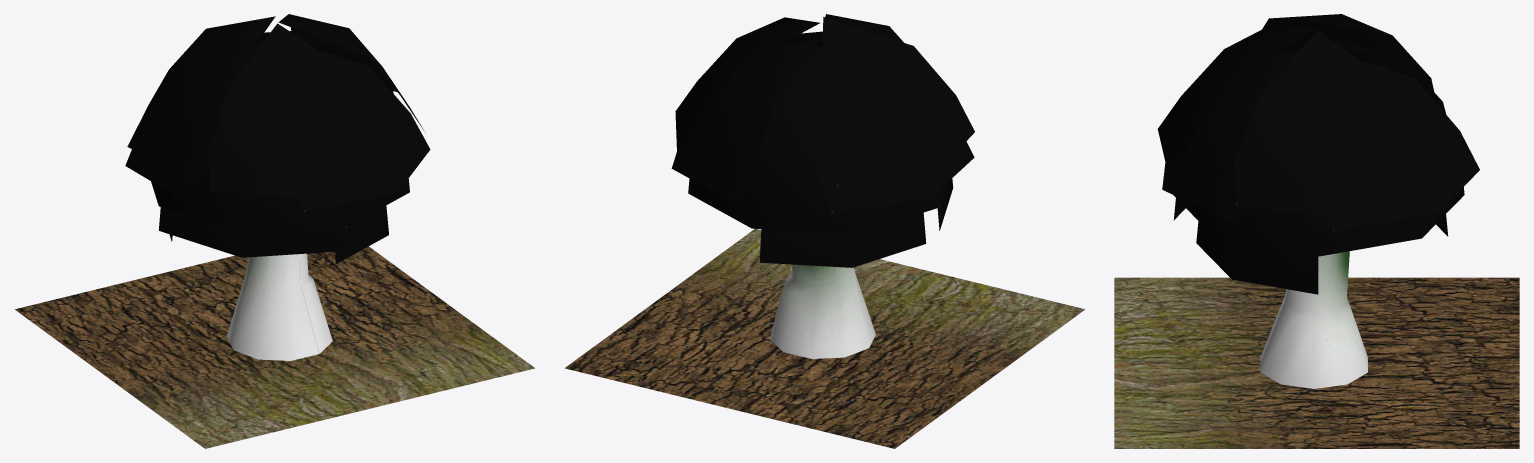
The model's file is farm_item_02.fbx.
3 views of the same model, side by side, from view 1: azimuth 30°, elevation 25°; view 2: azimuth 150°, elevation 25°; view 3: azimuth 270°, elevation 25° (orthographic). The views are drawn at different scales.
Parts seen in each view (by area): view 1: farm_item_02; view 2: farm_item_02; view 3: farm_item_02.
Part boxes in pixels (box(x1,y1,x2,y2)): farm_item_02: box(15, 14, 534, 448); farm_item_02: box(565, 14, 1084, 448); farm_item_02: box(1114, 14, 1519, 448).
Size of the model in its own units: 4.29 by 3.99 by 4.29.
